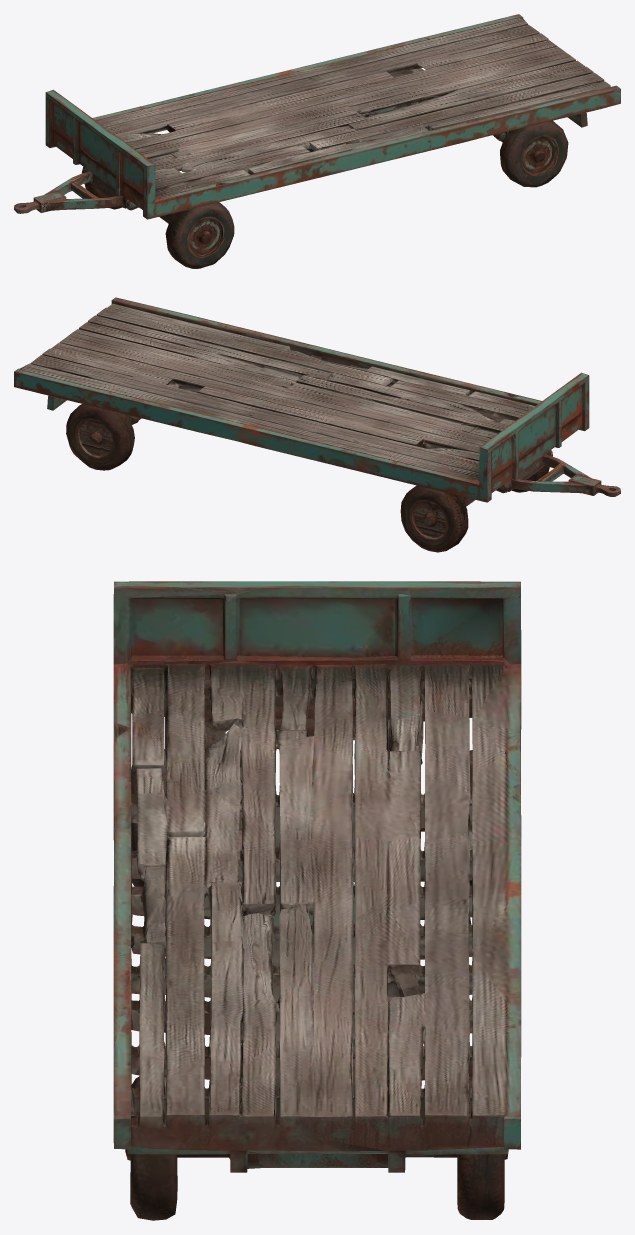
Rendered from prop-trailer.glb.
3 renders of one model, top to bottom at view 1: azimuth 30°, elevation 25°; view 2: azimuth 150°, elevation 25°; view 3: azimuth 270°, elevation 25°, orthographic. The views are drawn at different scales.
Size of the model in its own units: 1.9 by 0.4022 by 0.6041.
1 material, 1 textured.
